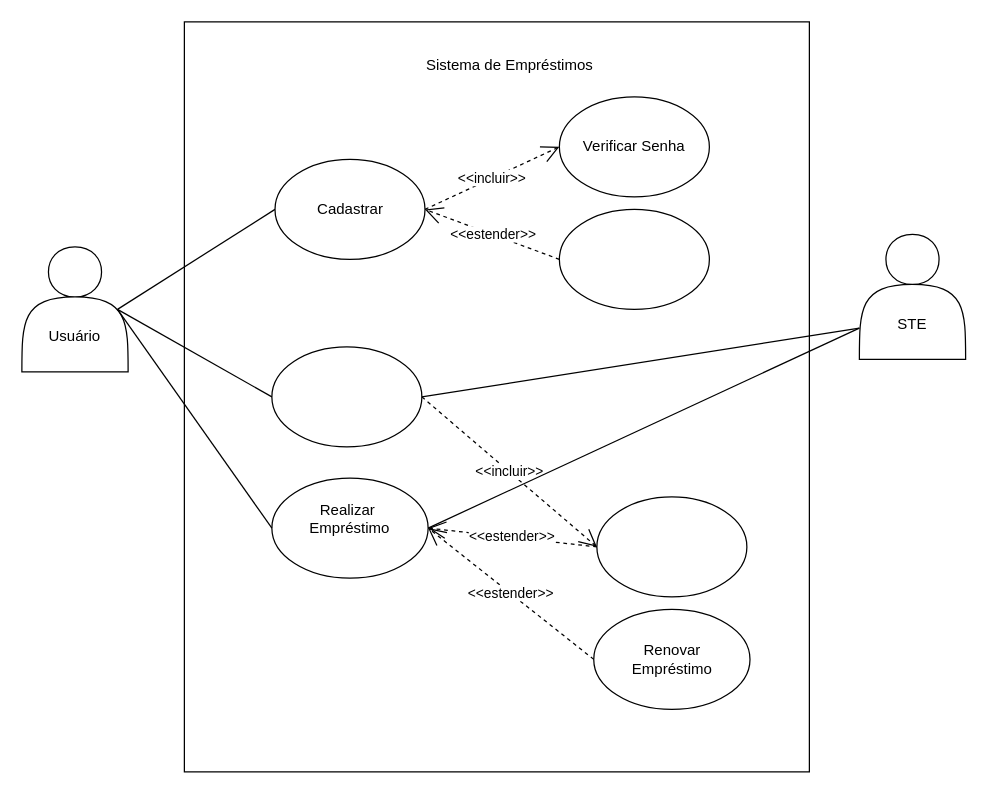
Image size: 988x794. Some labels were removed from this diagram. The shapes that lost their labels are listed below. From the top down, each one's centre as x and y in pixels, then its label:
pixel 633 258: Erro de Login
pixel 346 396: Buscar Item
pixel 671 546: Verificar Disponibilidade
